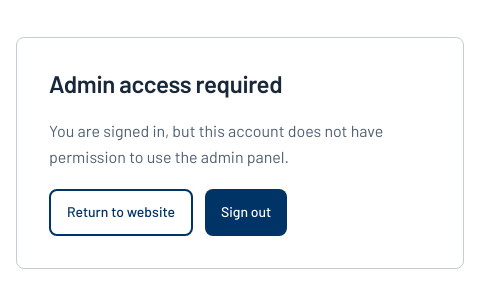
admin access screens › shows a failed sign-out instead of implying it succeeded
Click the button "Sign out".
click(246, 212)  # box left=205, top=189, right=287, bottom=236
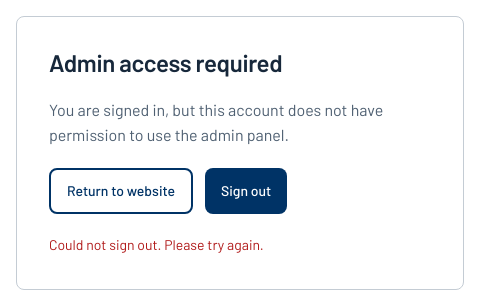
Expected: the button "Sign out" is enabled, left=205, top=168, right=287, bottom=214
Result: the message shows "Could not sign out" at left=49, top=236, right=264, bottom=253
